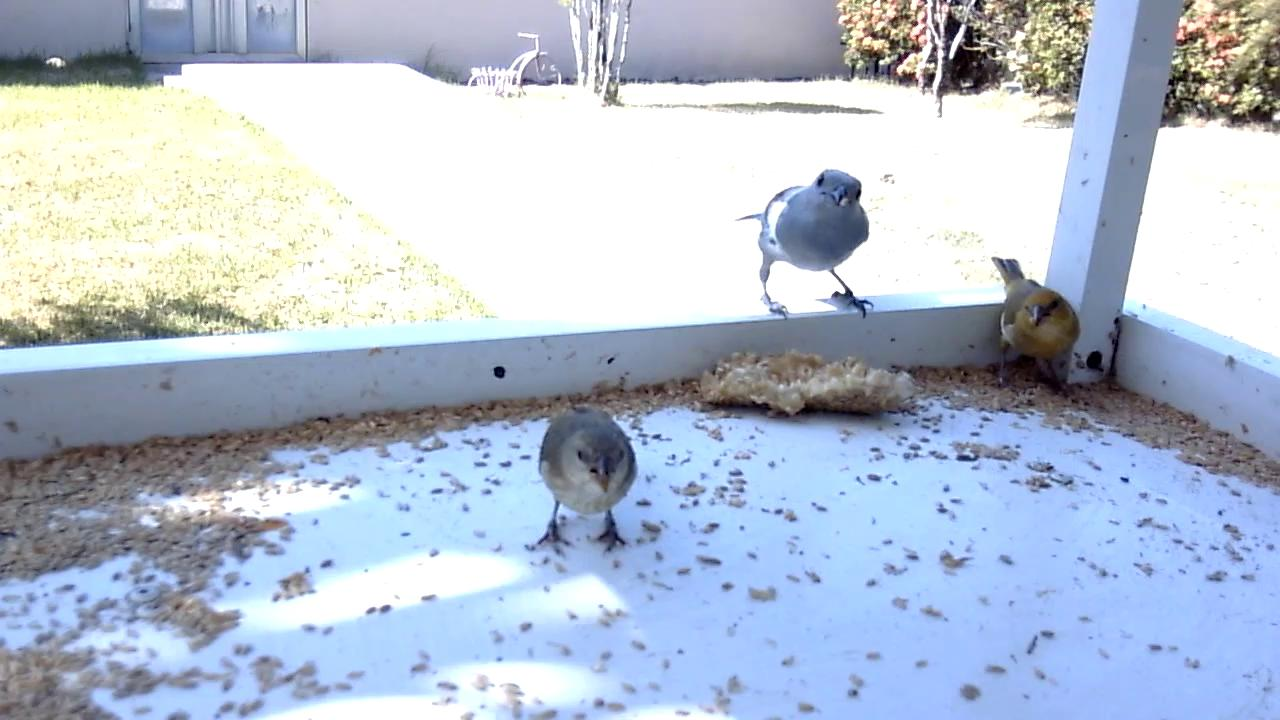canario_do_amazonas: (525, 411, 641, 560), (987, 255, 1082, 398)
sanhaco_da_amazonia: (731, 168, 880, 328)
